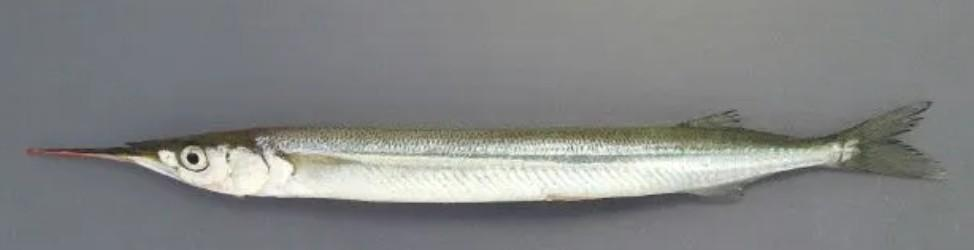fish: (24, 104, 947, 205)
